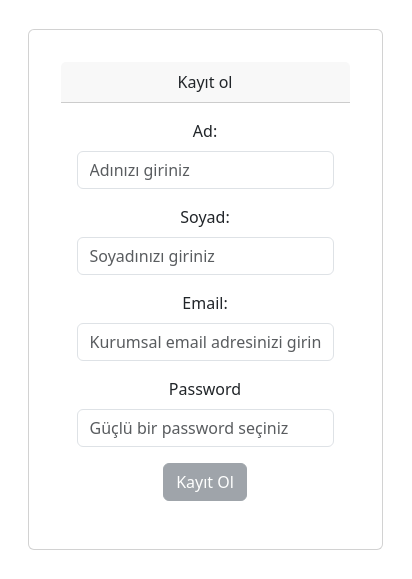
Test: Register Page › Error Messages › Surname input throws error for two chars
Type "şa" into the field with test id "soyad-input" at coordinates (206, 256), box [77, 237, 334, 275]
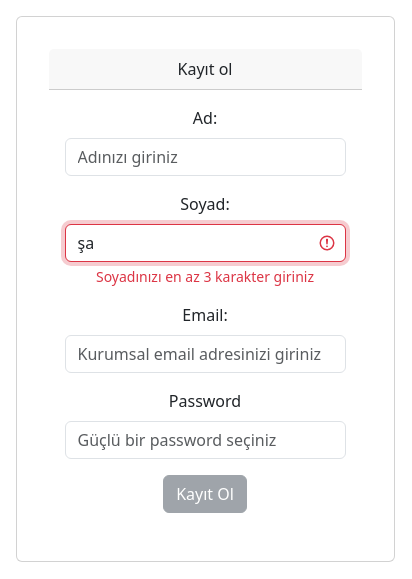
Result: the text "Soyadınızı en az 3 karakter giriniz" is shown at [96, 267, 314, 286]
